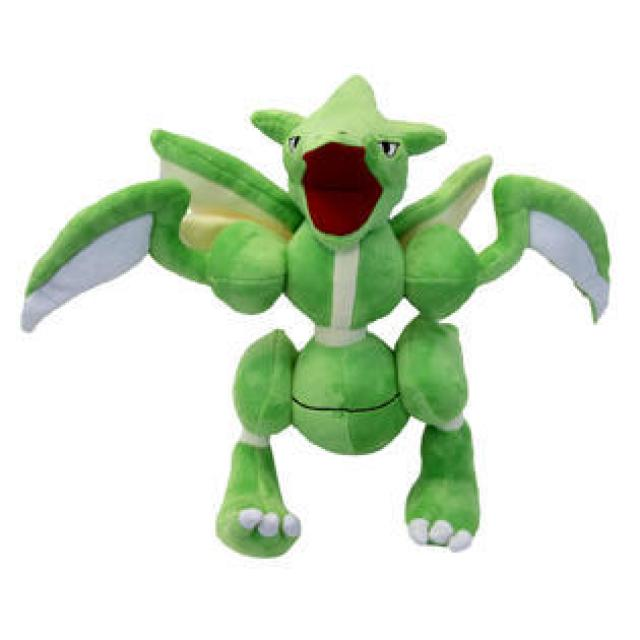Scyther: (102, 77, 614, 560)
